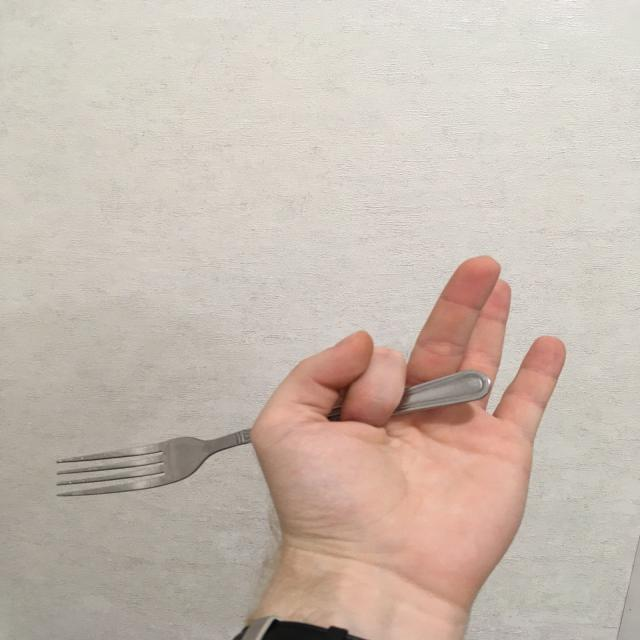fork: (56, 371, 493, 498)
